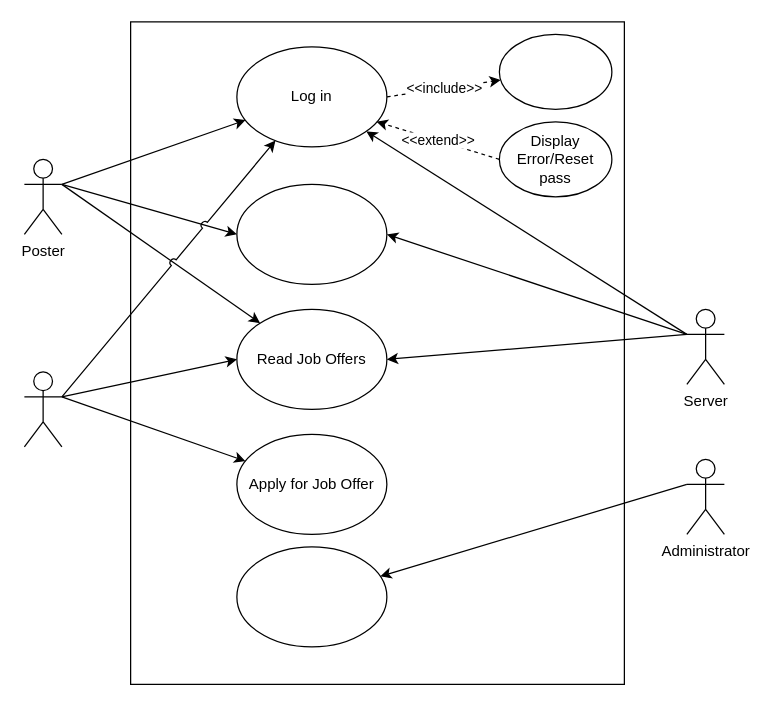
This 771x706 diagram has some shape labels left out. The box of each missing label's shape, as (x1, y1, x2, y2) in pixels:
Administrate: (236, 546, 387, 647)
Post Job Offers: (236, 183, 387, 284)
User: (23, 371, 62, 447)
Verify Credentials: (498, 33, 612, 109)
